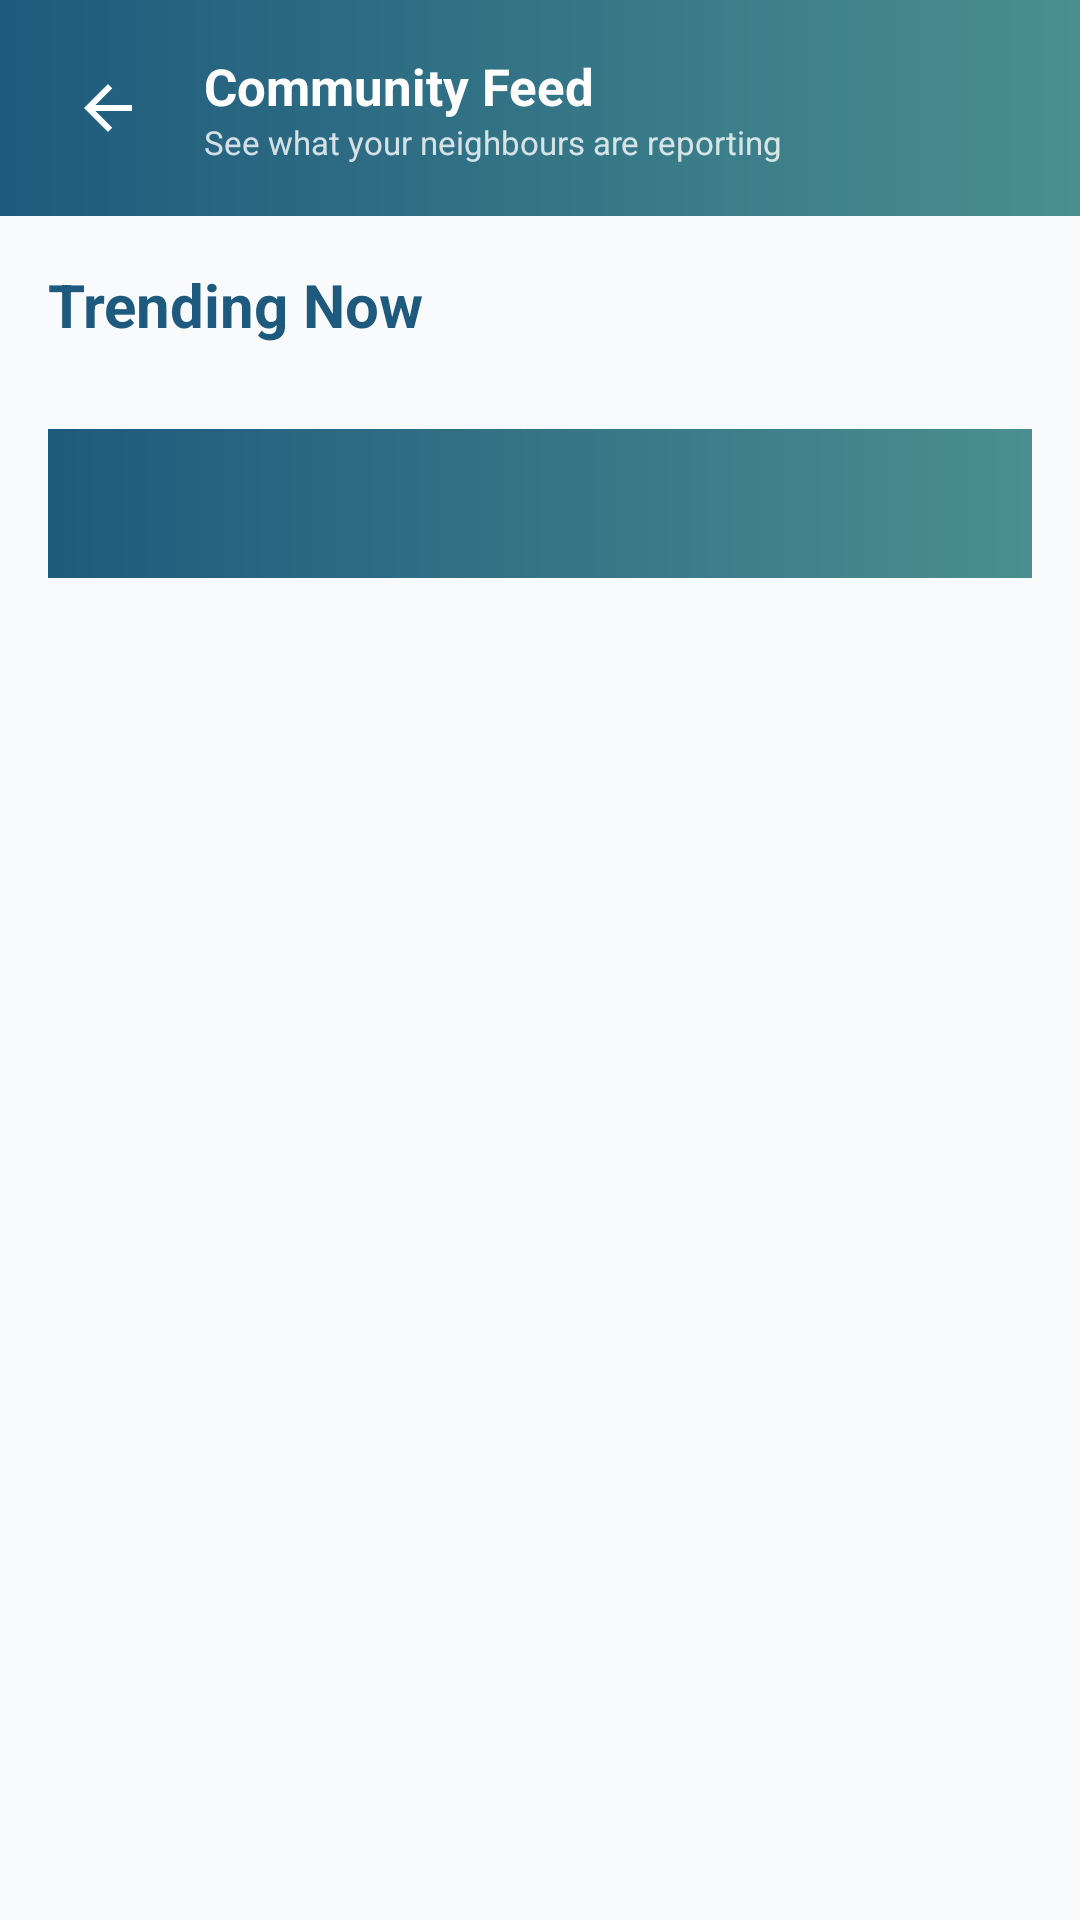

Locate icon controls on the screen. Image size 1080x1920, boxes as (x1,y1,x2,y2).
Back to Dashboard: (84,84,132,132)
